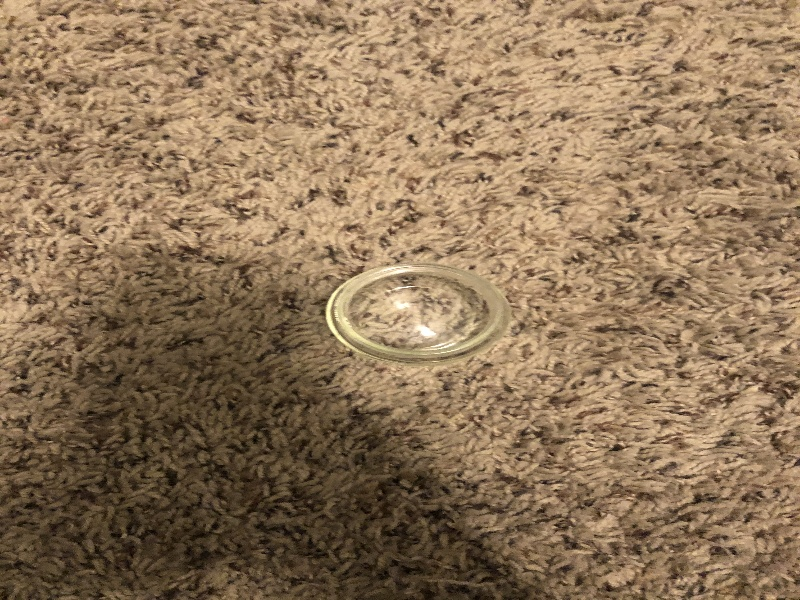glass: (325, 257, 514, 369)
